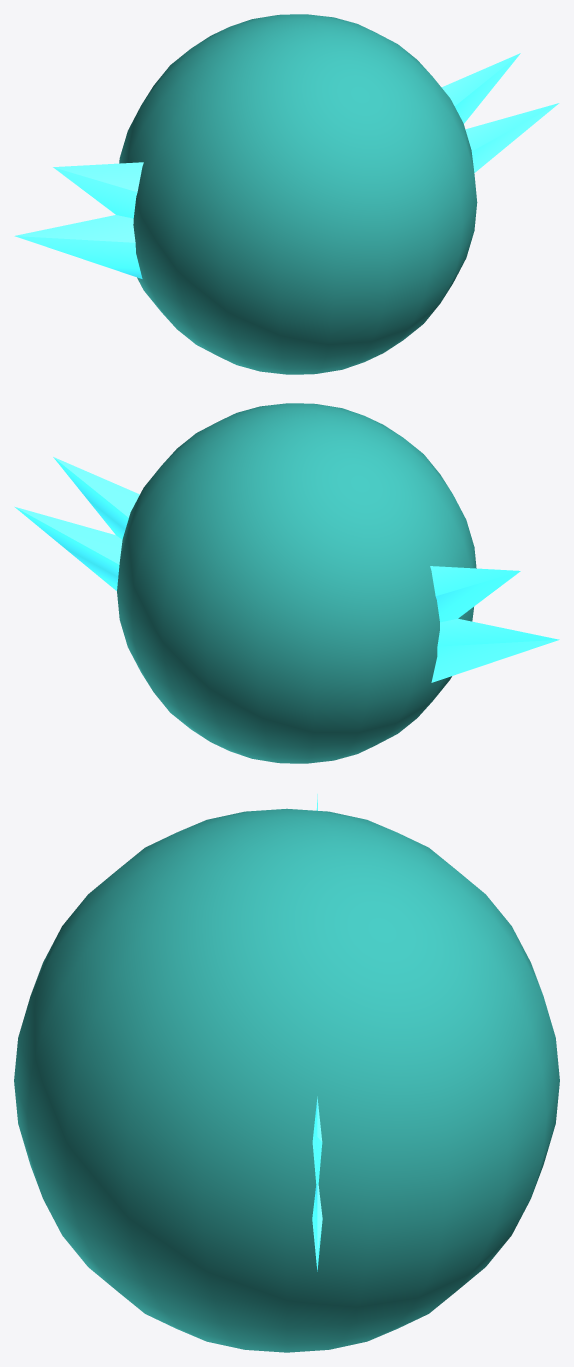
File: zephyr_stage2.glb
3 renders of one model, top to bottom at view 1: azimuth 30°, elevation 25°; view 2: azimuth 150°, elevation 25°; view 3: azimuth 270°, elevation 25°, orthographic. The views are drawn at different scales.
Parts seen in each view (by area): view 1: Body; view 2: Body; view 3: Body.
Part boxes in pixels (x1,y1,x2,y2): Body: (14, 14, 559, 374); Body: (14, 403, 559, 763); Body: (14, 794, 559, 1352).
Size of the model in its own units: 1.56 by 0.8968 by 0.8968.
